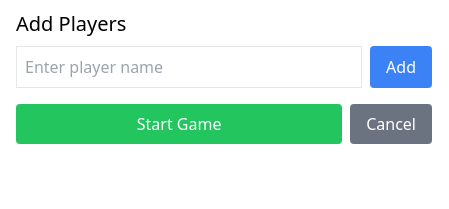
Test case: PlayerSetup › adds a player when form is submitted
Note: Set player name
Type "Test Player" into the field with placeholder "Enter player name".
click(189, 67); type("Test Player")  # box [16,46,362,88]
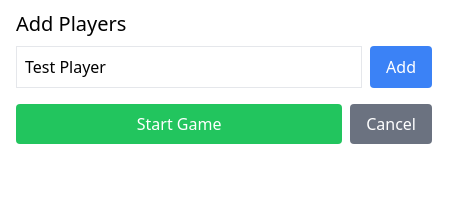
Note: Click add player button
Click the button "Add".
click(401, 67)  # box [370,46,432,88]
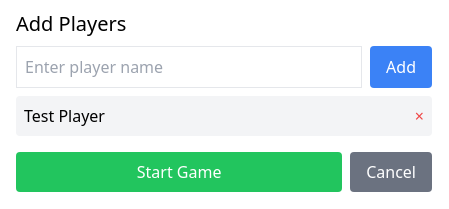
Result: the text "Test Player" is shown at [24,104,105,128]
